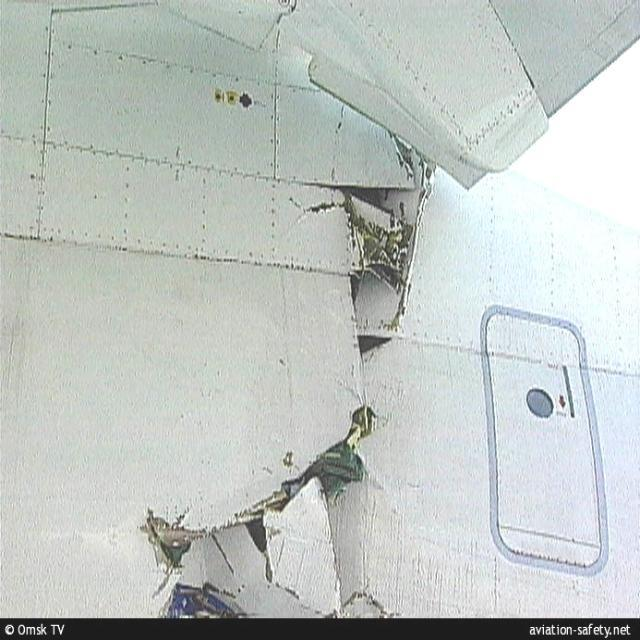crack: (134, 129, 440, 605)
